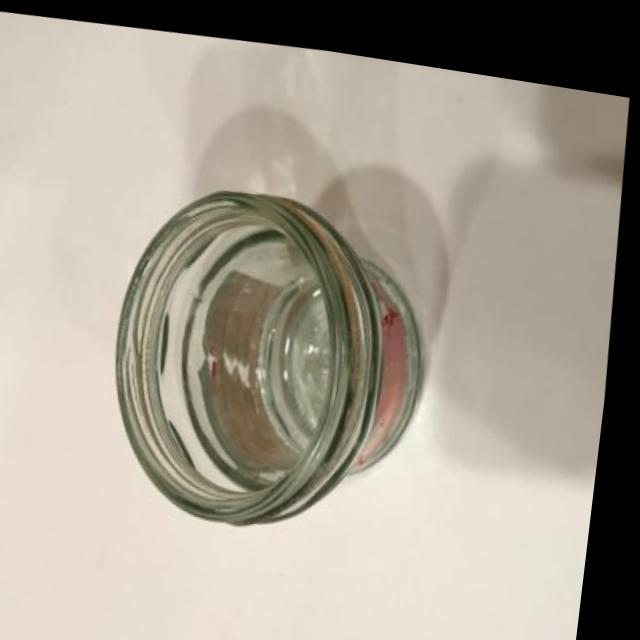glass: (81, 124, 464, 604)
